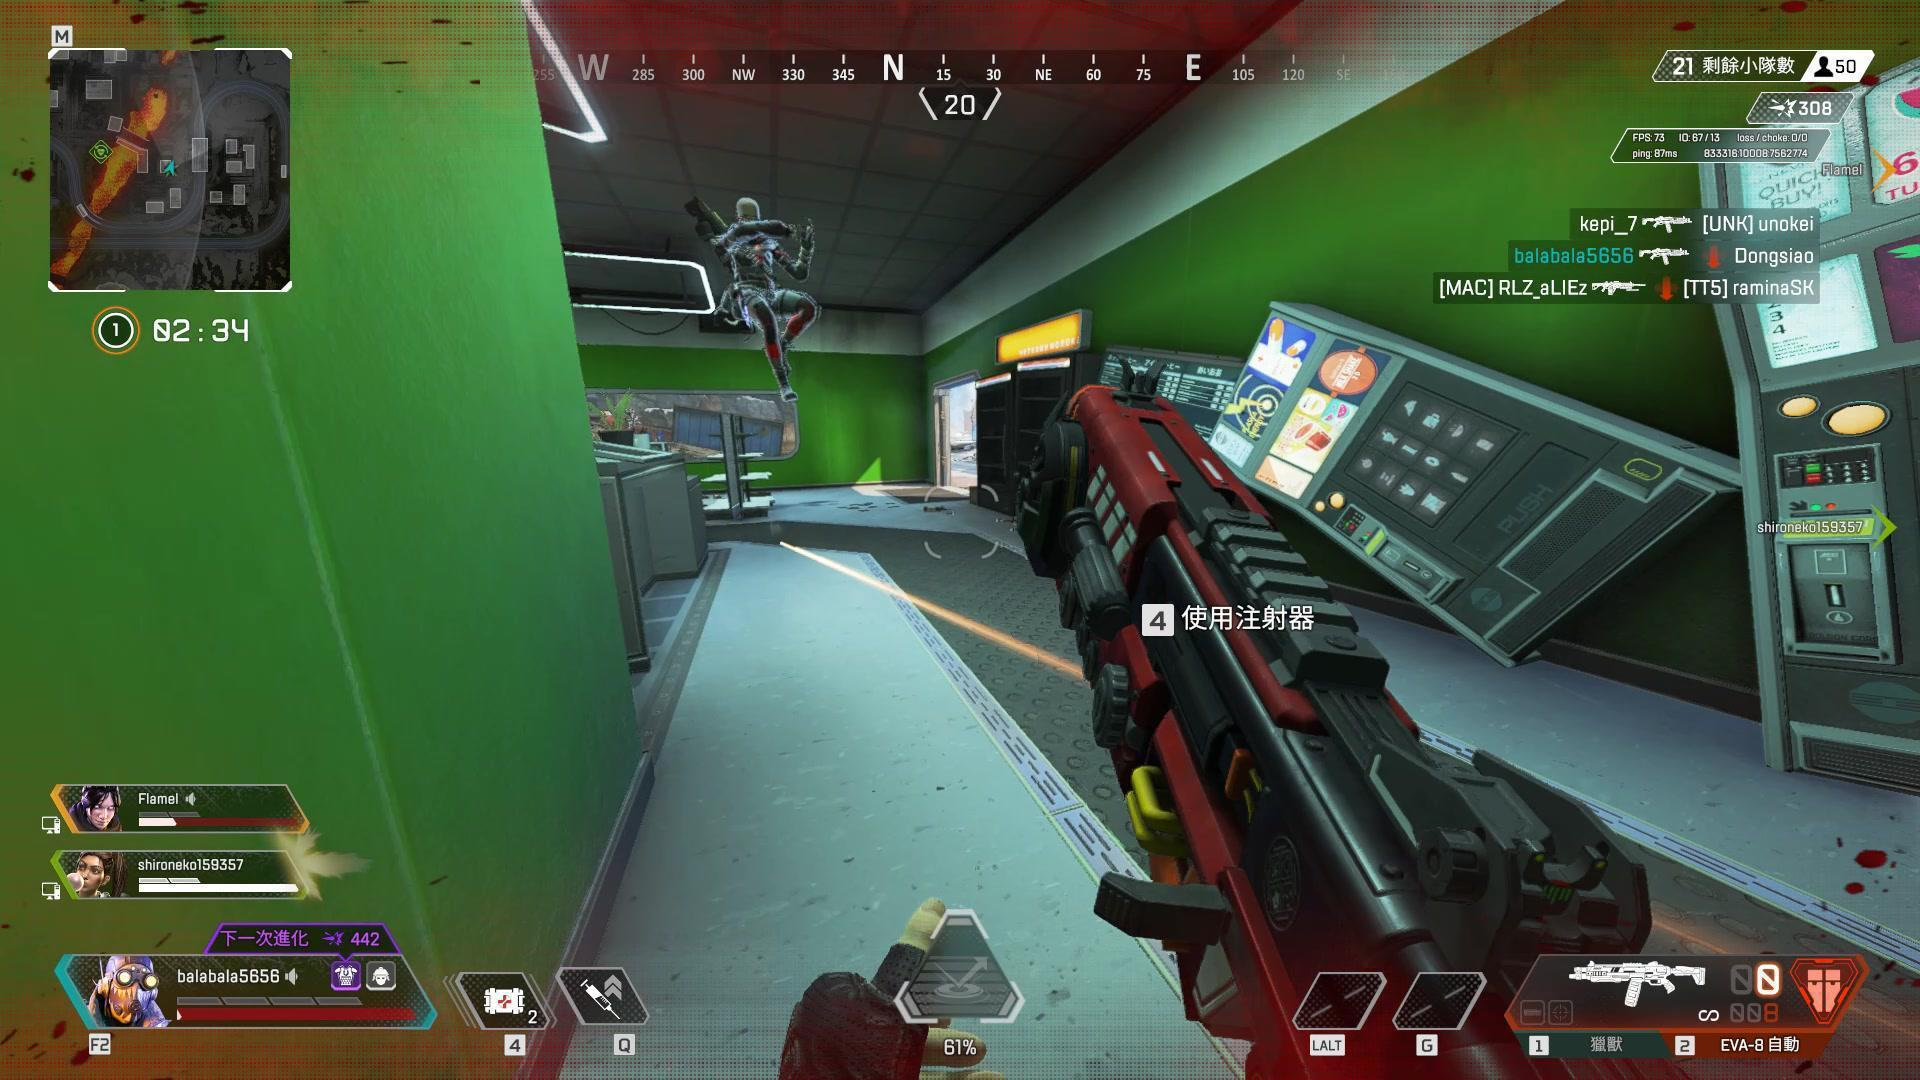avatar: (709, 195, 821, 406)
